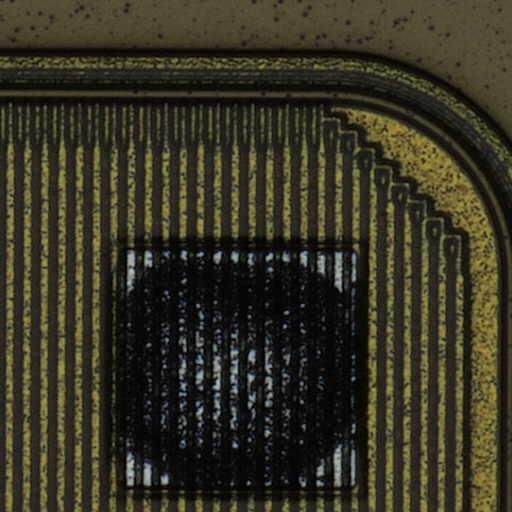SEZ BURNT: (89, 227, 377, 512)
